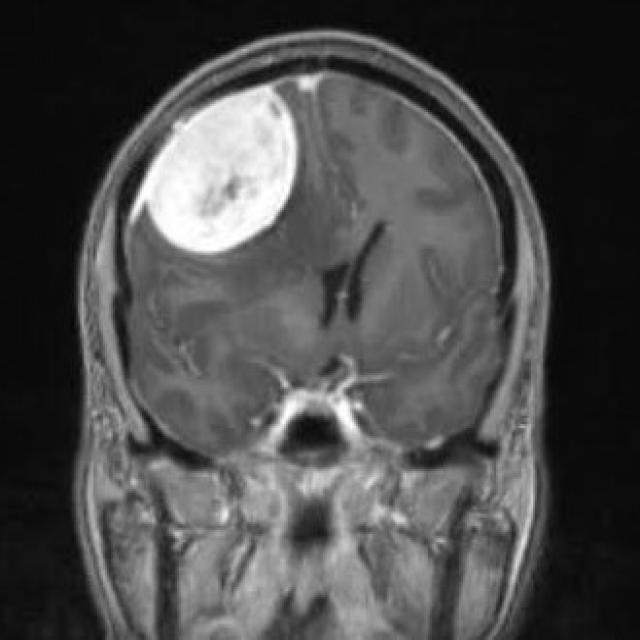Meningioma: (143, 85, 300, 253)
